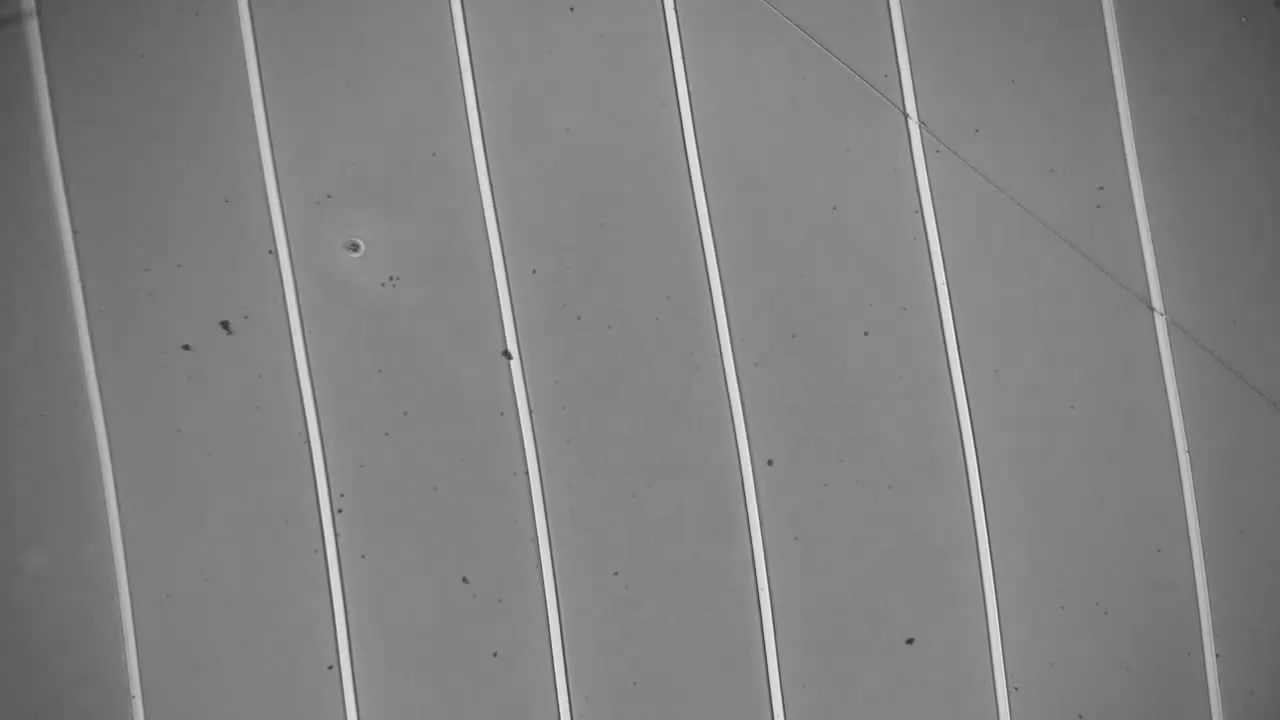scratch: (774, 9, 1280, 420)
stains_enbedded: (491, 339, 531, 367)
